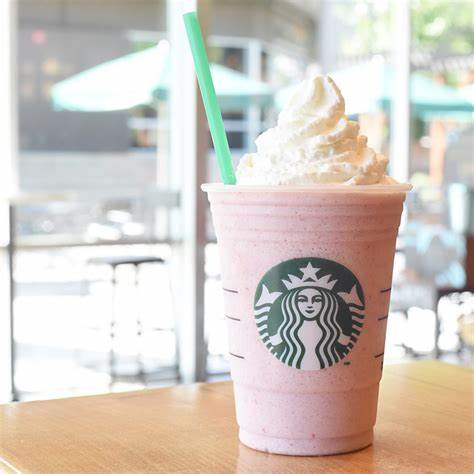starbucks Originale: (251, 250, 374, 378)
